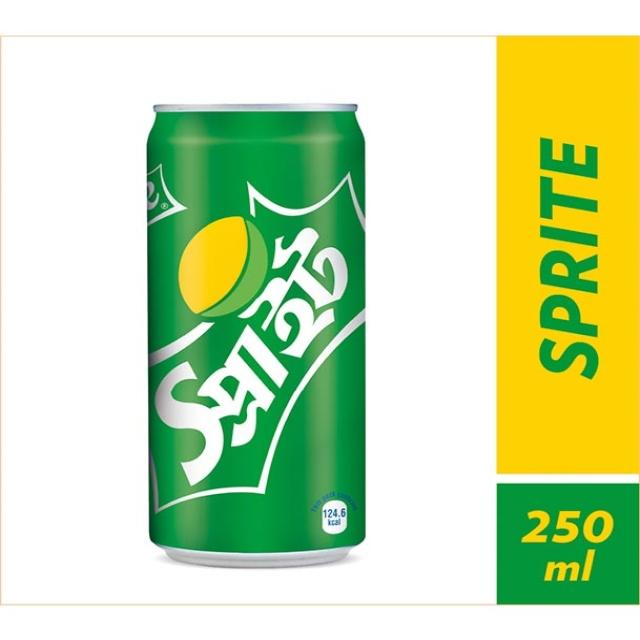sprite: (143, 100, 406, 578)
